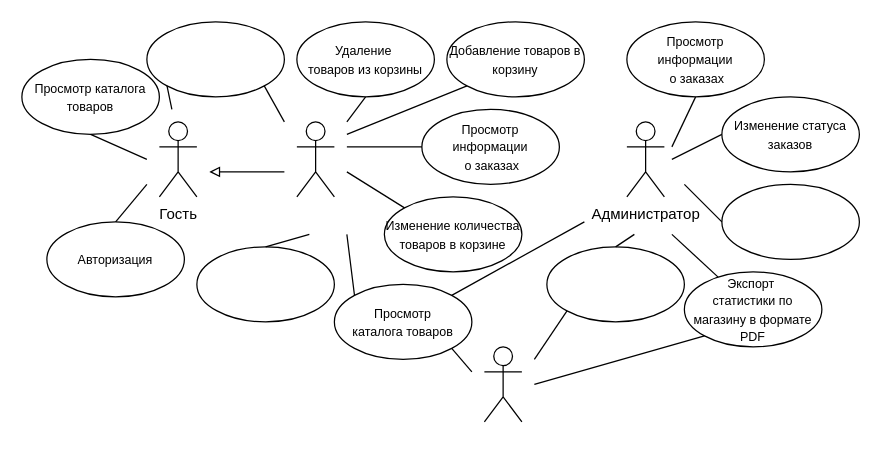
Image size: 881x470. Some labels were removed from this diagram. The shapes that lost their labels are listed below. From the top down, each one's box as (x1, y1, x2, y2) in pixels, then its label:
(146, 21, 284, 97): Поиск товаров
(296, 121, 334, 197): Покупатель
(721, 183, 859, 259): Просмотр учета статистики по магазину
(196, 246, 334, 322): Оформление заказа выбранных товаров из корзины
(546, 246, 684, 322): Импорт статистики по магазину из формата .xls, .csv
(483, 346, 522, 422): Менеджер
